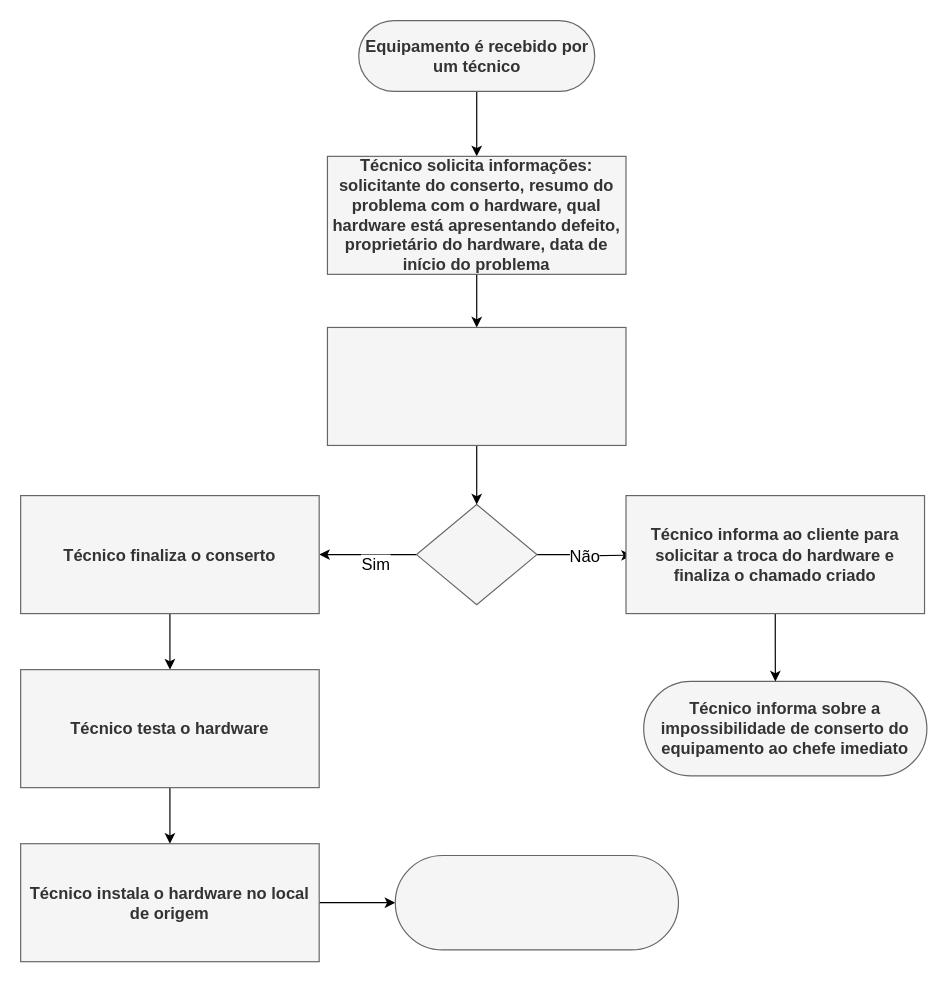
Image size: 948x983. Some labels were removed from this diagram. Here are the shapes that lost their labels. From the top down, the box of each, then its label:
(326, 326, 626, 445): Técnico tenta realizar o conserto
(415, 503, 537, 605): Possível consertar?
(394, 854, 678, 950): Técnico finaliza o chamado
